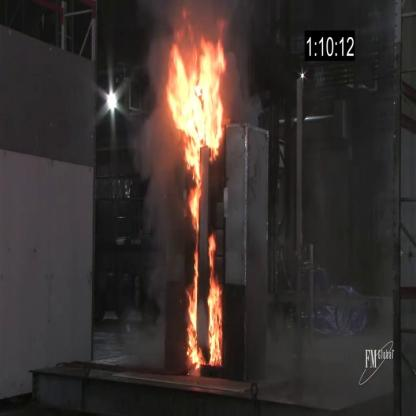fire: (158, 13, 235, 376)
